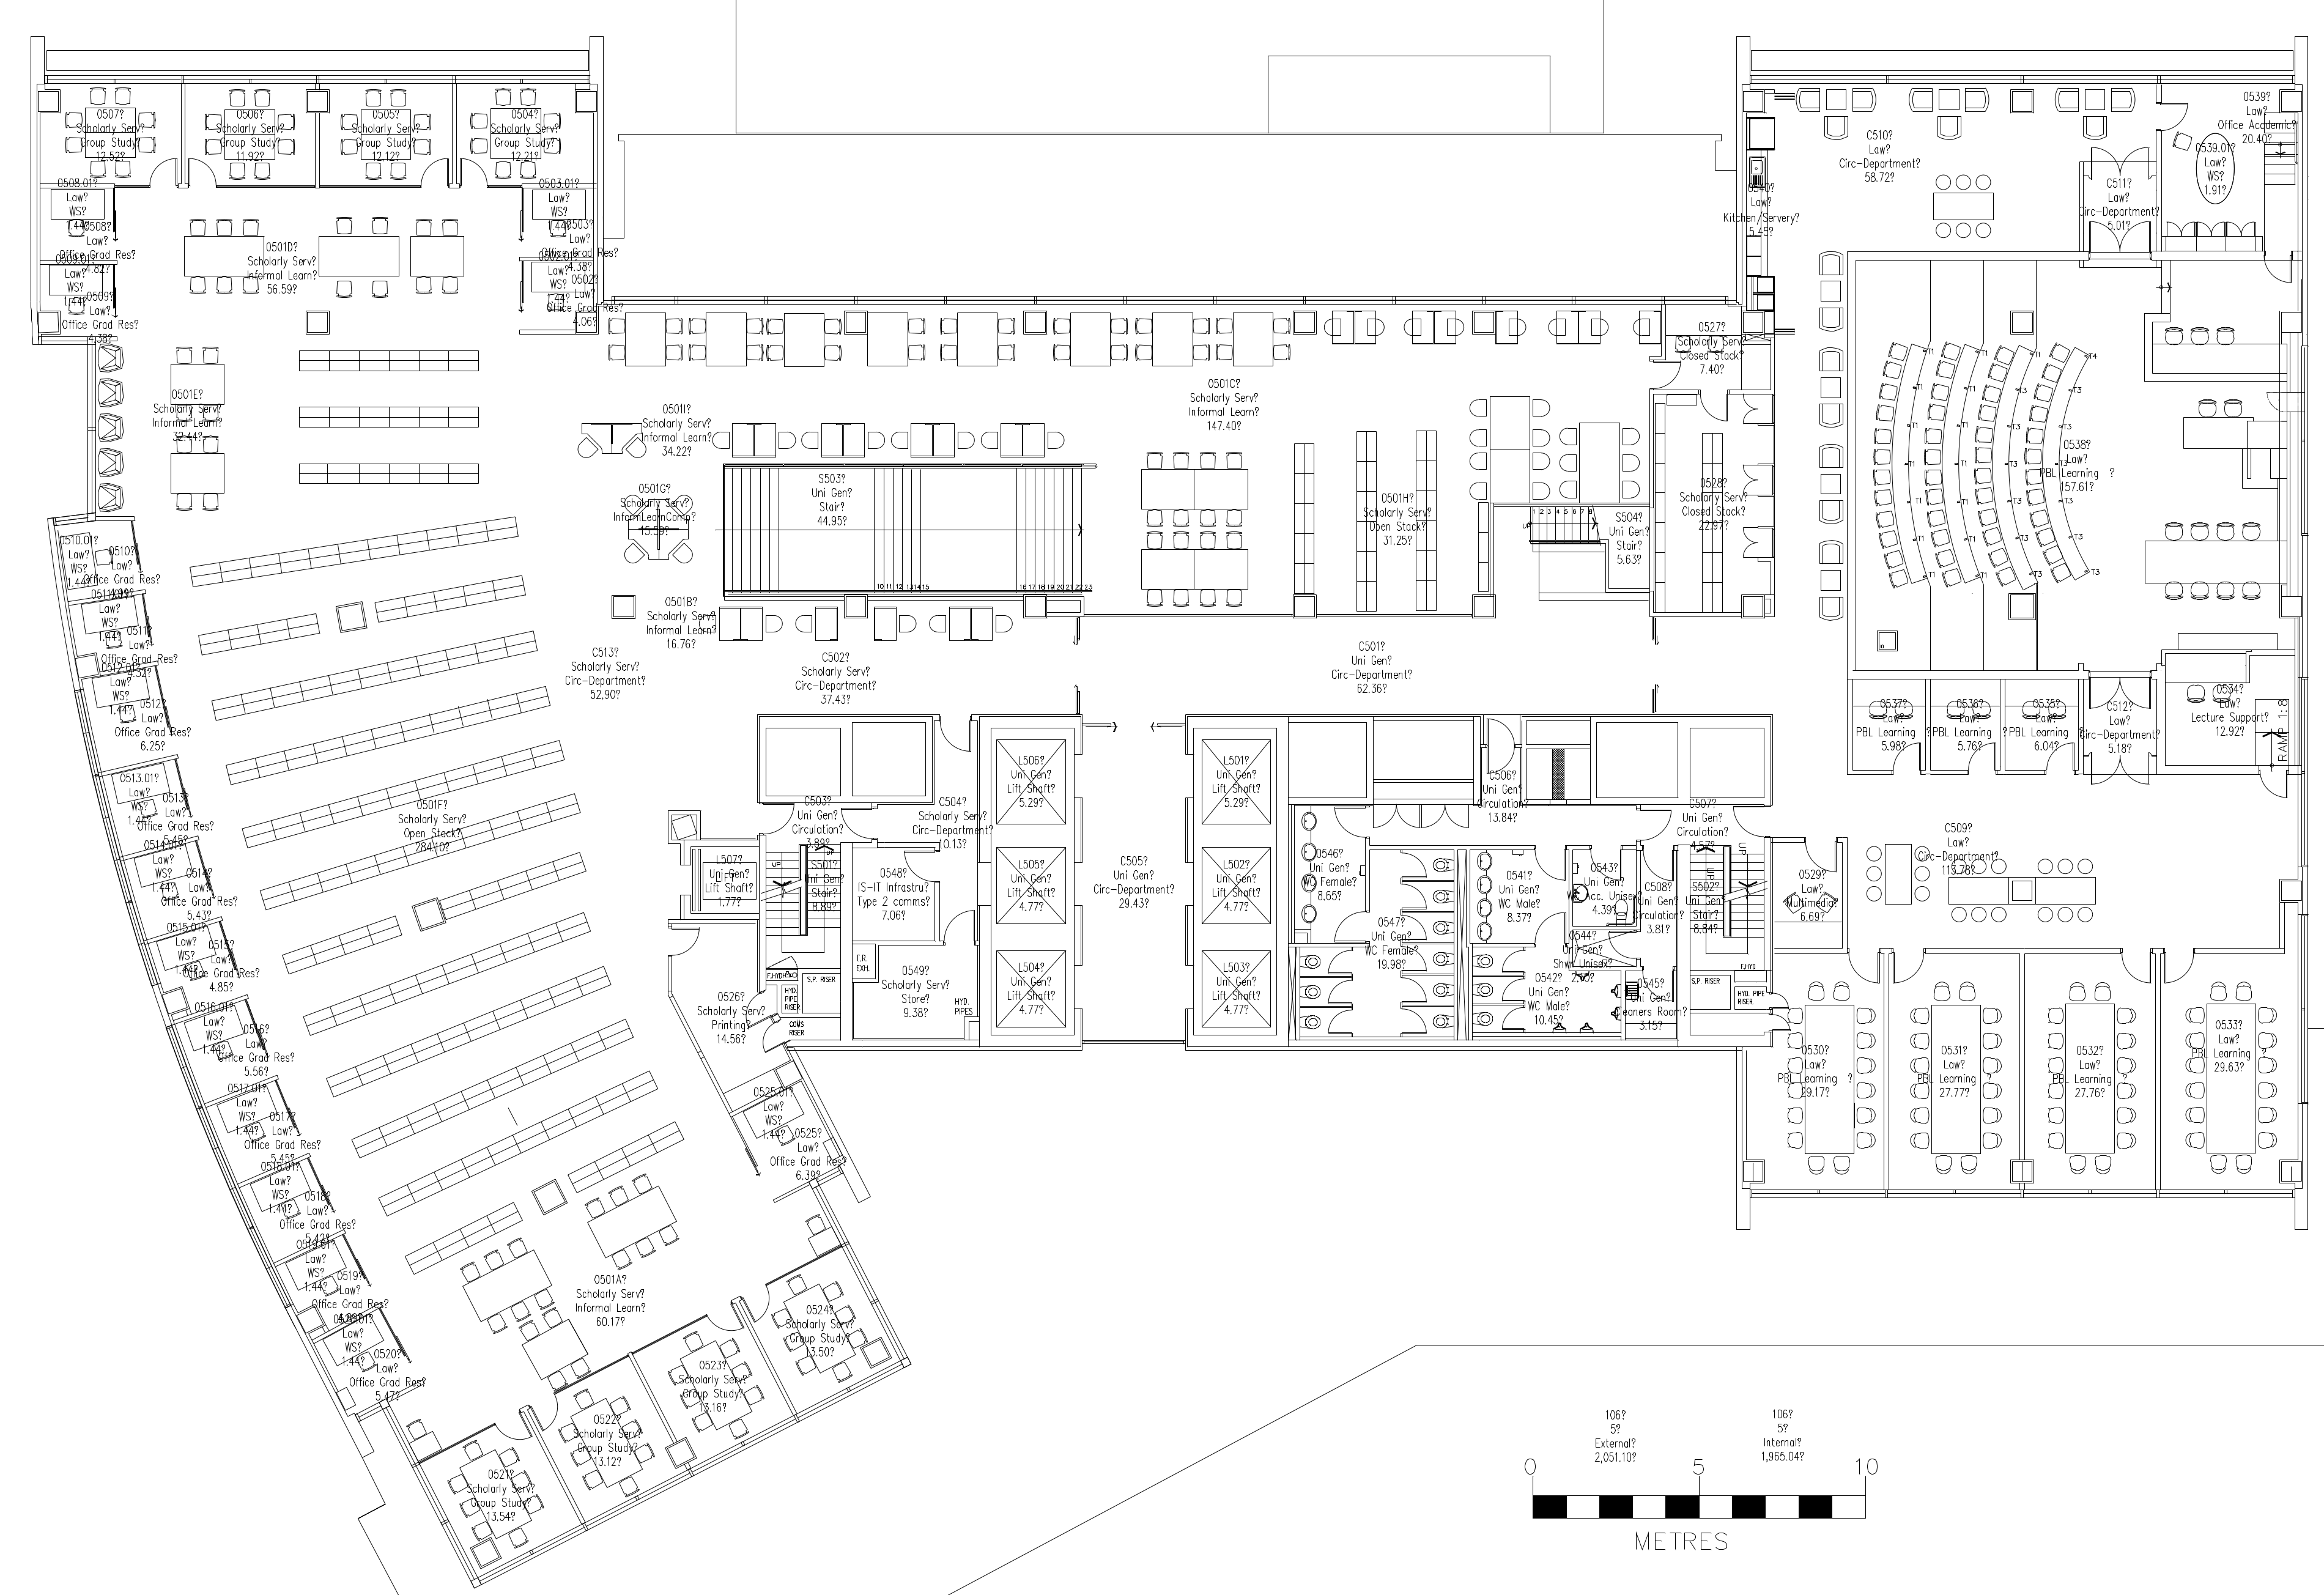door: (2089, 751, 2151, 788), (2089, 677, 2151, 714), (2087, 219, 2153, 251), (2087, 145, 2153, 177), (705, 1291, 742, 1337), (526, 1387, 563, 1432), (496, 1404, 533, 1450), (1487, 715, 1515, 775), (1370, 805, 1422, 834), (1418, 804, 1469, 832), (742, 1281, 772, 1327), (901, 850, 936, 888), (671, 924, 705, 964), (939, 721, 973, 760), (1332, 805, 1370, 839), (740, 991, 772, 1030), (1377, 841, 1409, 880), (839, 805, 872, 841), (1333, 910, 1367, 943), (1535, 848, 1568, 881), (1535, 910, 1568, 943), (1732, 804, 1766, 837), (1847, 954, 1881, 987), (2043, 737, 2077, 770), (2119, 956, 2153, 989), (1891, 952, 1925, 986), (1966, 740, 1999, 774), (1642, 807, 1674, 843), (943, 906, 975, 941), (1644, 850, 1676, 885), (1591, 848, 1623, 881), (2163, 954, 2195, 987), (1890, 740, 1921, 774), (2259, 770, 2292, 802), (419, 155, 450, 185), (2162, 101, 2192, 132), (2264, 258, 2294, 290), (766, 802, 795, 834), (147, 157, 178, 185), (457, 157, 489, 185), (1699, 394, 1727, 424), (187, 157, 219, 184), (1399, 853, 1427, 881), (1655, 360, 1681, 390), (1400, 883, 1427, 911), (1402, 915, 1429, 943), (1402, 947, 1429, 975), (1326, 975, 1353, 1002), (1402, 1009, 1429, 1035), (1402, 977, 1429, 1003), (1738, 465, 1759, 496), (1328, 949, 1353, 975), (1326, 1009, 1351, 1035), (2225, 217, 2259, 237), (1739, 394, 1759, 426), (1739, 526, 1759, 558), (763, 1023, 781, 1053), (1771, 987, 1791, 1012), (1771, 1014, 1791, 1039), (1503, 950, 1522, 973), (1501, 1009, 1520, 1032), (1503, 979, 1520, 1002)
